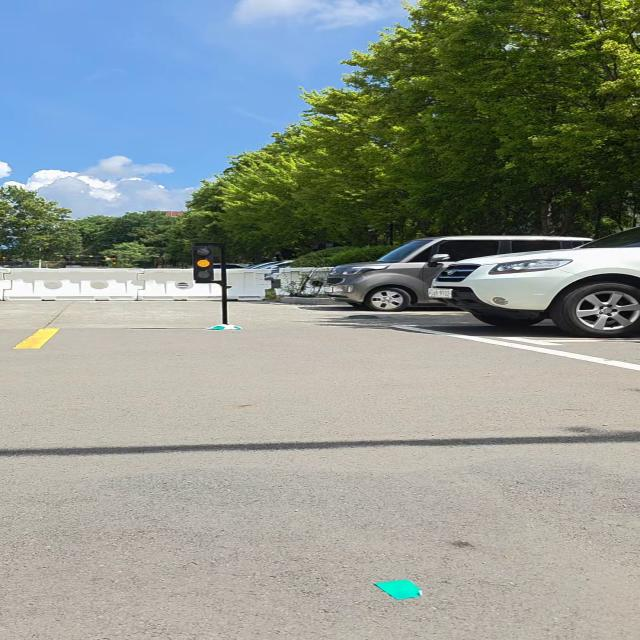yellow: (192, 246, 214, 280)
